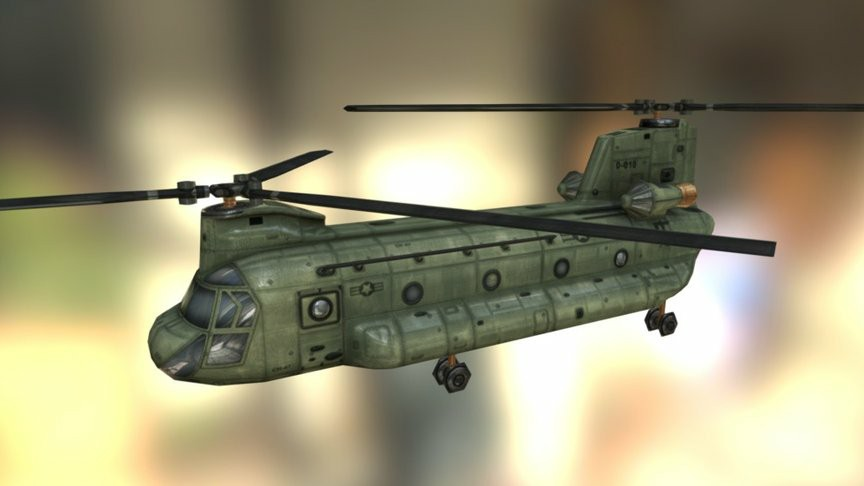chinook: (126, 96, 841, 395)
